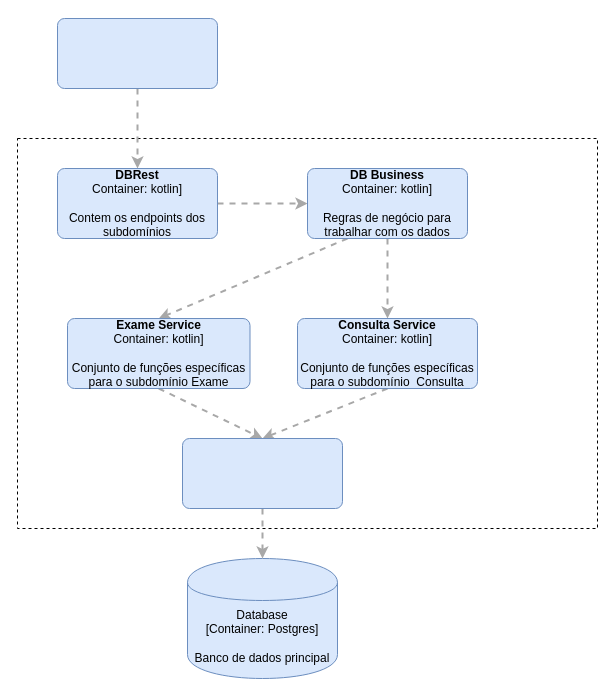
This 615x696 diagram has some shape labels left out. Here are the shapes that lost their labels. From the top down, the box of each, then its label:
(56, 18, 218, 88): DB API [Container: kotlin ] API para proteger o banco principal
(182, 438, 342, 508): DB Repository Container: kotlin ] Integração com a base de dados
